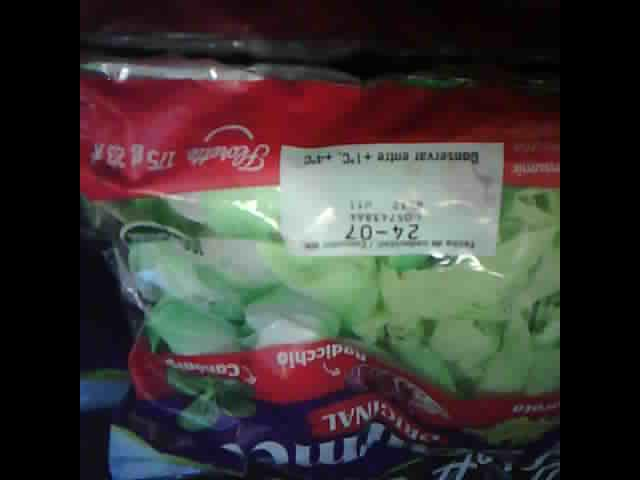florette: (79, 4, 563, 476)
